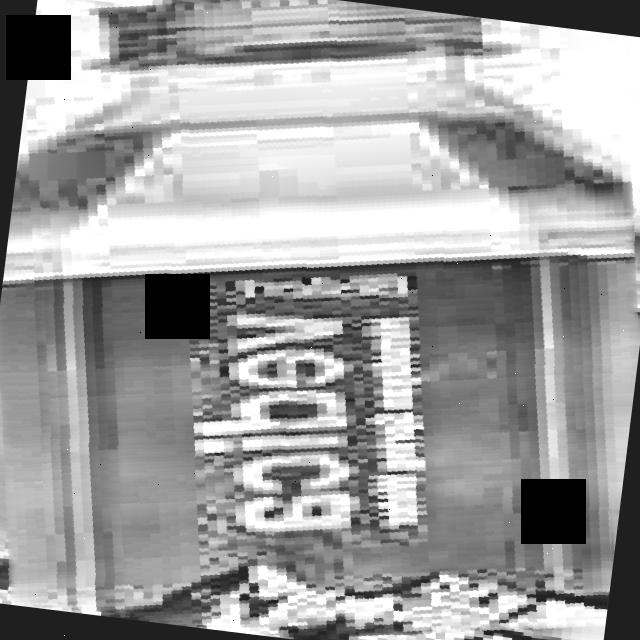bottle: (0, 0, 639, 639)
